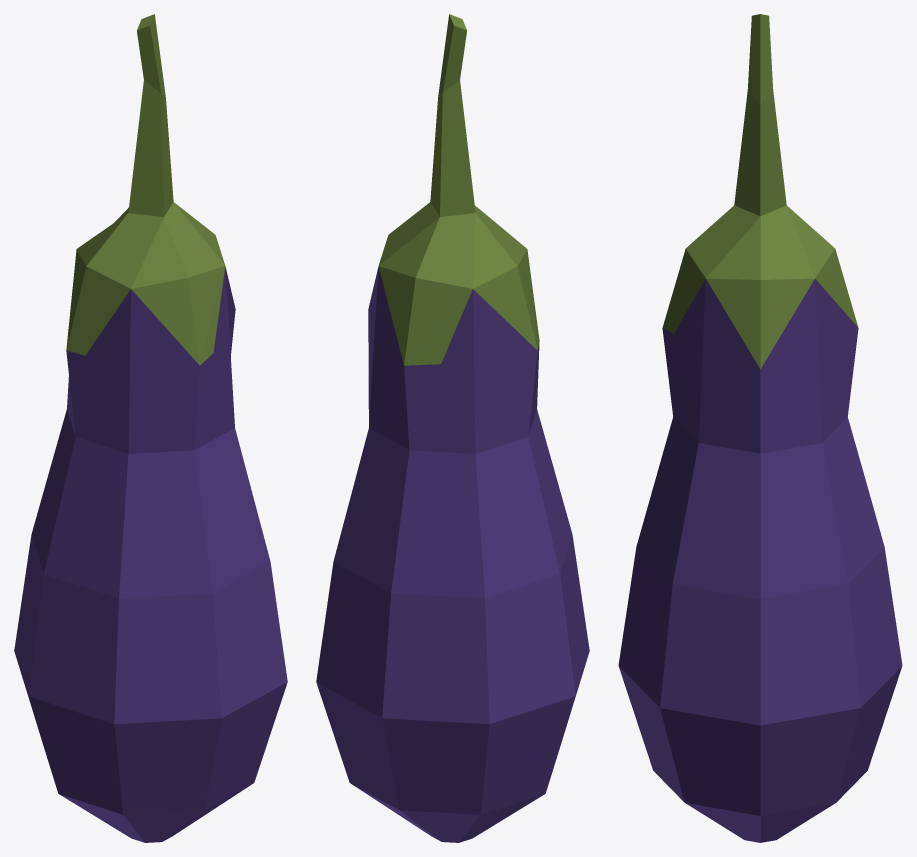
Rendered from SM_Envr_Nature_Farm_Vegetable_EggPlant_01.fbx.
3 views of the same model, side by side, from view 1: azimuth 30°, elevation 25°; view 2: azimuth 150°, elevation 25°; view 3: azimuth 270°, elevation 25° (orthographic).
Visible parts, largest first — view 1: SM_Envr_Nature_Farm_Vegetable_EggPlant_01; view 2: SM_Envr_Nature_Farm_Vegetable_EggPlant_01; view 3: SM_Envr_Nature_Farm_Vegetable_EggPlant_01.
Boxes of the visible parts, bbox=[...] form: SM_Envr_Nature_Farm_Vegetable_EggPlant_01: bbox=[14, 14, 287, 842]; SM_Envr_Nature_Farm_Vegetable_EggPlant_01: bbox=[316, 14, 589, 842]; SM_Envr_Nature_Farm_Vegetable_EggPlant_01: bbox=[618, 14, 902, 842].
Size of the model in its own units: 6.2 by 19.77 by 6.2.
